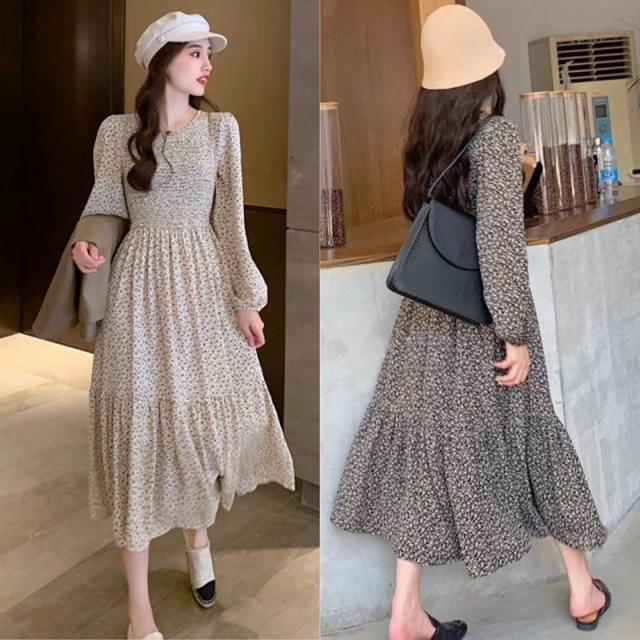clothes: (330, 114, 611, 578), (75, 108, 296, 549)
